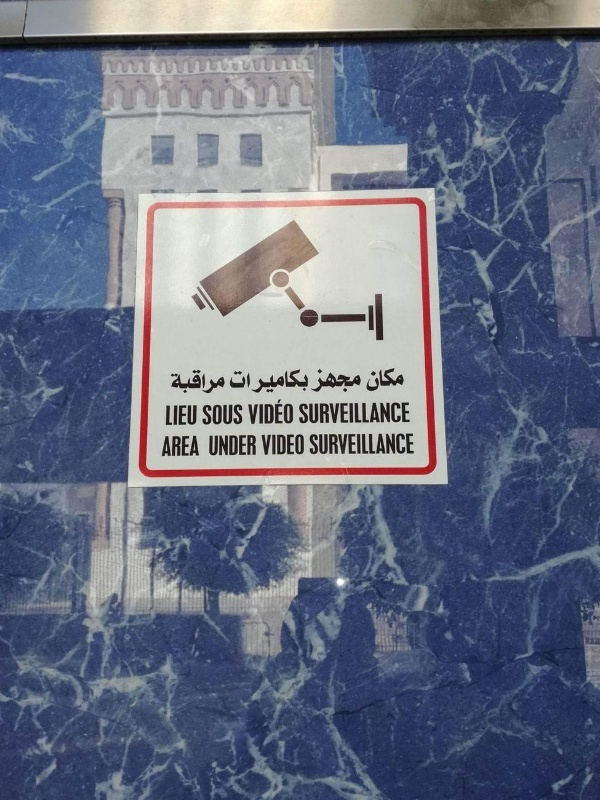text: (369, 366, 384, 394), (385, 366, 400, 394), (241, 368, 256, 396), (257, 368, 272, 396), (273, 368, 288, 396), (289, 368, 304, 396), (177, 368, 192, 396), (193, 368, 208, 396), (209, 368, 224, 396), (257, 399, 272, 425), (273, 399, 288, 425), (321, 369, 336, 393), (337, 369, 352, 393), (241, 434, 257, 456), (289, 434, 305, 456), (161, 434, 176, 457), (177, 434, 192, 457), (177, 404, 192, 426), (305, 402, 320, 424), (321, 402, 336, 424), (337, 402, 352, 424), (353, 402, 368, 424), (369, 402, 384, 424), (385, 402, 400, 424), (209, 434, 224, 456), (225, 434, 240, 456), (273, 434, 288, 456), (321, 433, 336, 455), (337, 433, 352, 455), (353, 433, 368, 455), (369, 433, 384, 455), (385, 433, 400, 455), (209, 404, 224, 425), (225, 404, 240, 425), (401, 433, 415, 455), (230, 368, 240, 396), (165, 404, 176, 426), (261, 434, 272, 456), (309, 433, 320, 455), (310, 369, 320, 393), (401, 402, 411, 424), (353, 369, 362, 393), (248, 399, 256, 425), (289, 399, 295, 425), (171, 368, 176, 396), (193, 434, 199, 457), (202, 404, 208, 425), (401, 366, 405, 394), (305, 368, 309, 396), (299, 402, 304, 424), (193, 404, 197, 426), (365, 366, 368, 394), (241, 404, 243, 425), (225, 368, 226, 396)
